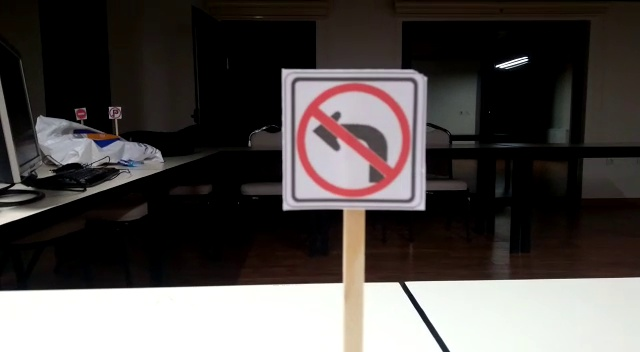sola_donulmez: (292, 80, 415, 199)
